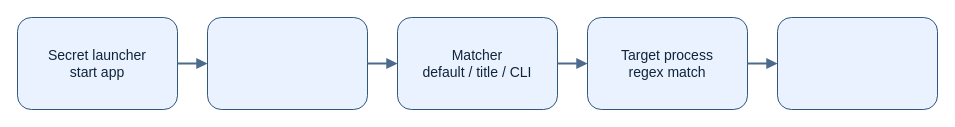
Image size: 955x127. Some labels were removed from this diagram. Here are the shapes that lost their labels. From the top down, the centre of each, then its label:
[287,63]: FortiClient observe process tree
[857,63]: Audit capture multiprocess + full-screen
